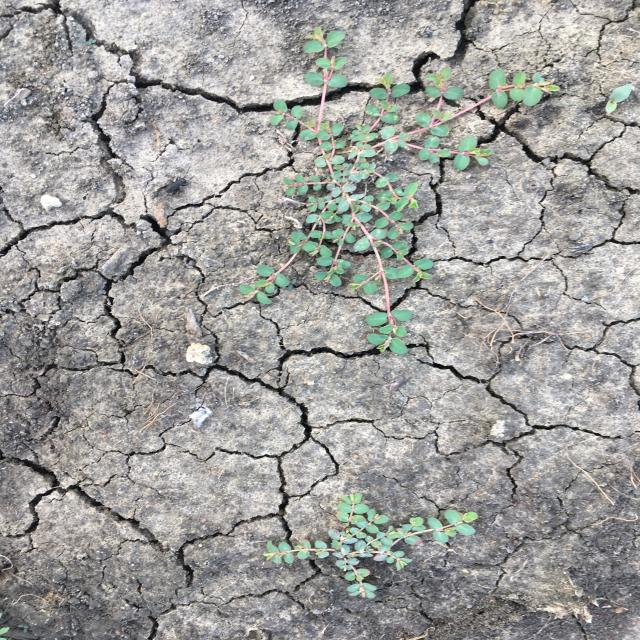SpottedSpurge: (236, 25, 564, 356), (261, 491, 481, 601)
